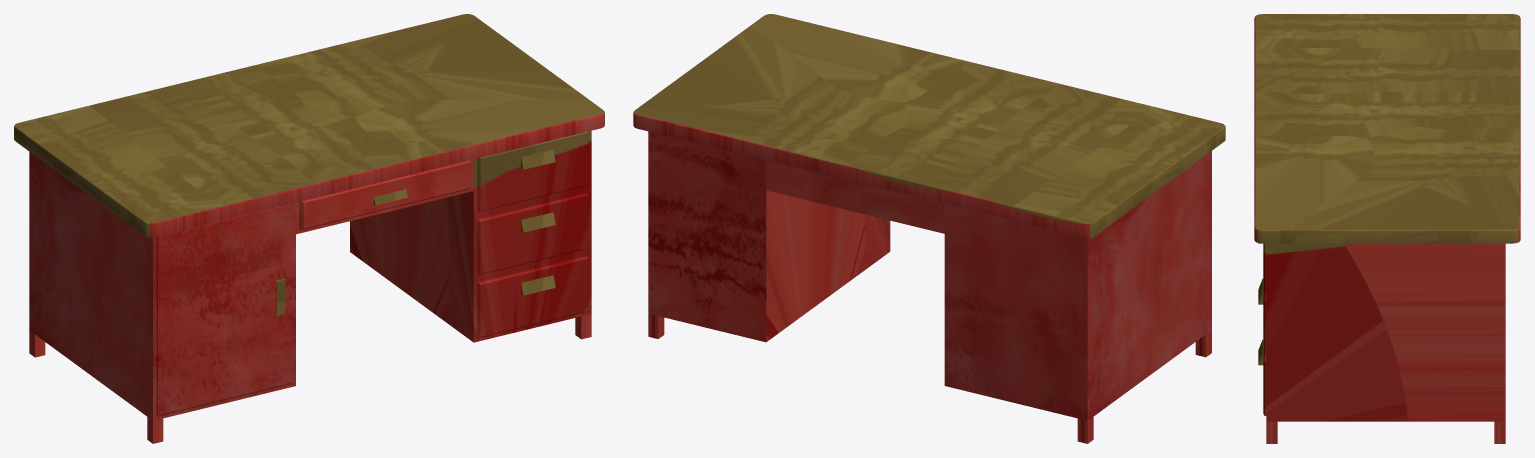
File: MetalDesk.fbx
The picture shows the model from 3 angles, left to right: view 1: azimuth 30°, elevation 25°; view 2: azimuth 150°, elevation 25°; view 3: azimuth 270°, elevation 25°; orthographic projection. The views are drawn at different scales.
Parts seen in each view (by area): view 1: defaultMaterial; view 2: defaultMaterial; view 3: defaultMaterial.
Boxes of the visible parts, x1,y1,x2,y2 form: defaultMaterial: (14,14,604,443); defaultMaterial: (633,14,1225,443); defaultMaterial: (1254,14,1520,443).
Size of the model in its own units: 200 by 94.01 by 104.
